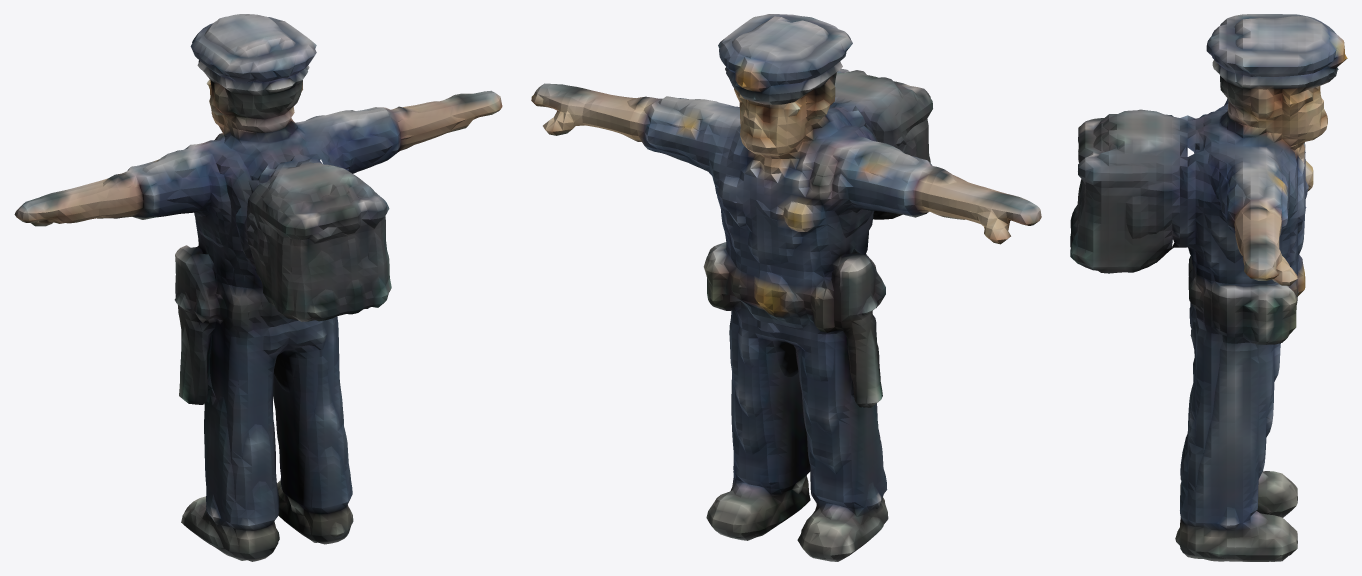
File: triposr-output.glb
3 views of the same model, side by side, from view 1: azimuth 30°, elevation 25°; view 2: azimuth 150°, elevation 25°; view 3: azimuth 270°, elevation 25° (orthographic). The views are drawn at different scales.
Parts seen in each view (by area): view 1: world; view 2: world; view 3: world.
Boxes of the visible parts, x1,y1,x2,y2 form: world: (14, 14, 502, 561); world: (531, 14, 1041, 561); world: (1070, 14, 1347, 561).
Size of the model in its own units: 1 by 0.9717 by 0.4828.
